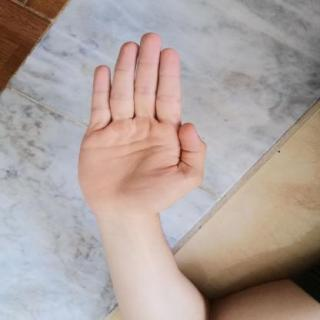SEEN: (67, 25, 212, 225)
